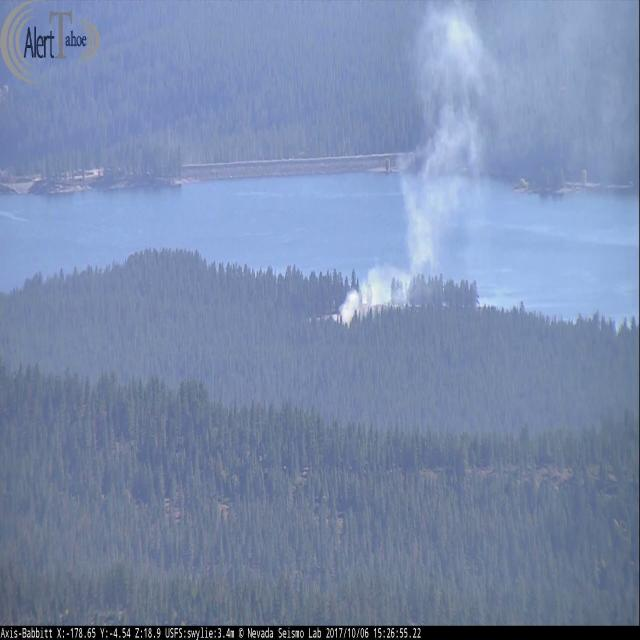smoke: (329, 0, 640, 320)
